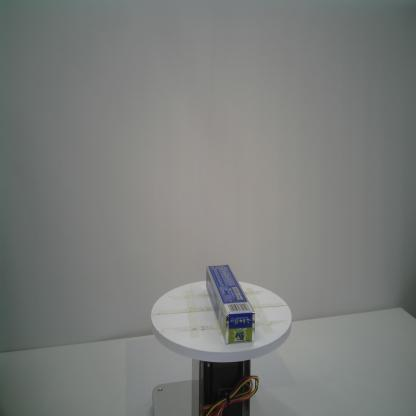Personal Hygiene: (205, 263, 257, 344)
